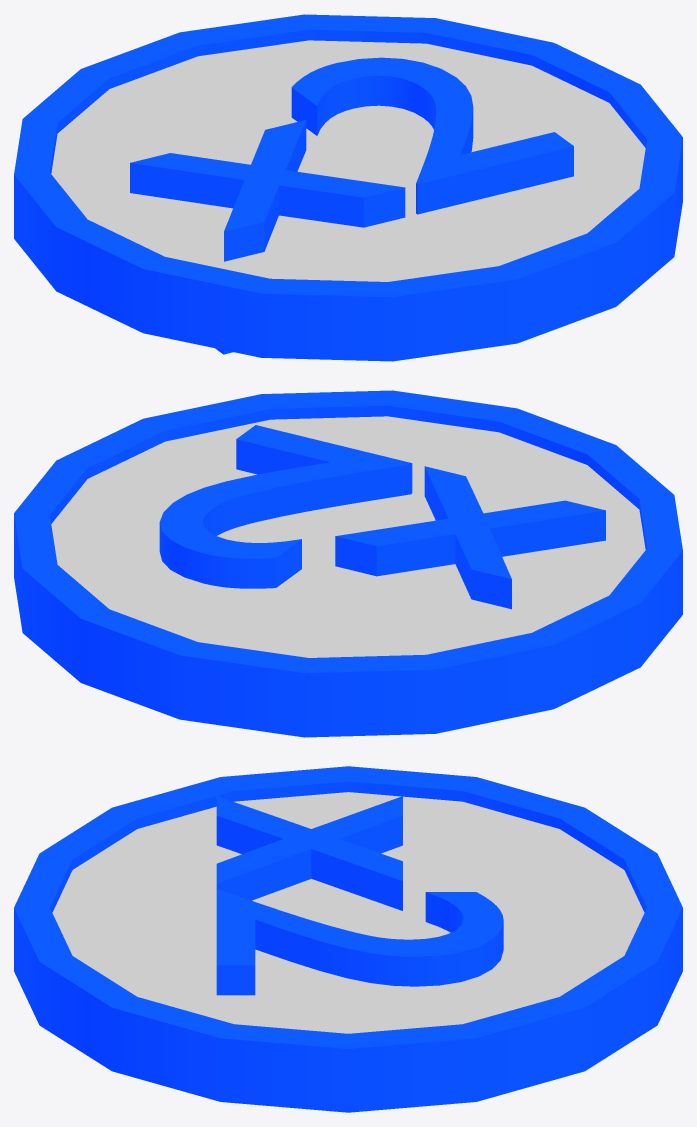
Rendered from ScoreMultiplier.fbx.
3 renders of one model, top to bottom at view 1: azimuth 30°, elevation 25°; view 2: azimuth 150°, elevation 25°; view 3: azimuth 270°, elevation 25°, orthographic.
Parts seen in each view (by area): view 1: Cylinder.002, ScoreMultiplier; view 2: Cylinder.002, ScoreMultiplier; view 3: Cylinder.002, ScoreMultiplier.
Boxes of the visible parts, bbox=[...] form: Cylinder.002: bbox=[14, 14, 682, 361]; ScoreMultiplier: bbox=[130, 57, 573, 354]; Cylinder.002: bbox=[14, 390, 682, 737]; ScoreMultiplier: bbox=[159, 425, 605, 609]; Cylinder.002: bbox=[14, 766, 682, 1112]; ScoreMultiplier: bbox=[216, 796, 503, 995].
Size of the model in its own units: 200 by 40.19 by 200.
